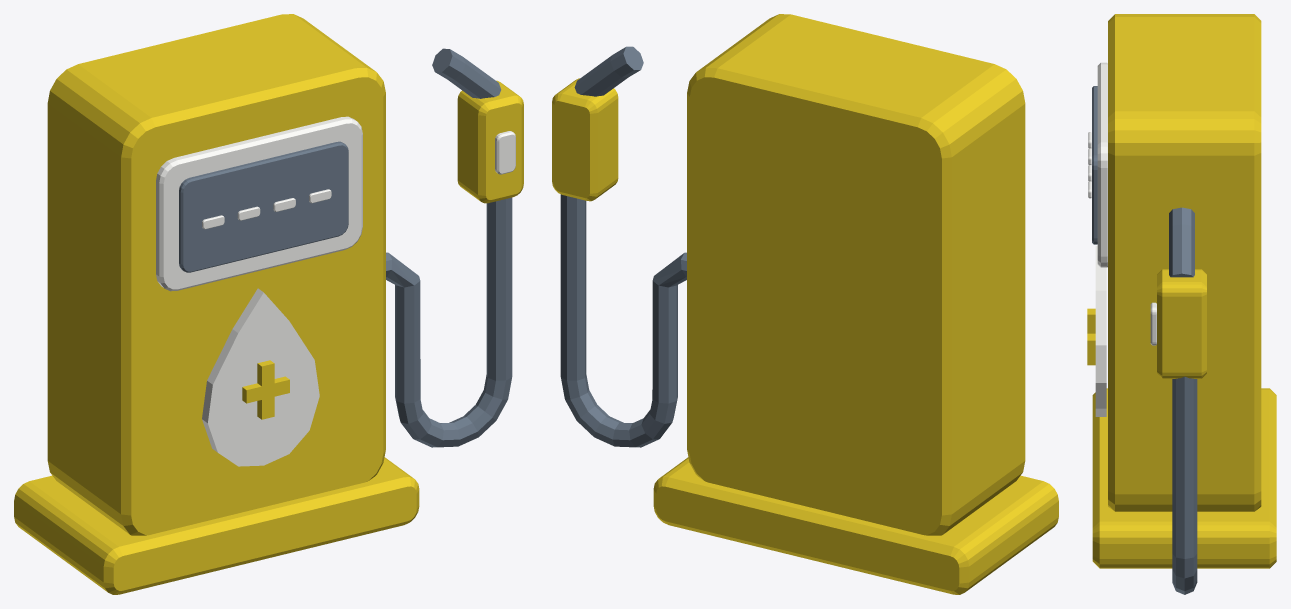
File: gasoline_additive.glb
3 renders of one model, left to right at view 1: azimuth 30°, elevation 25°; view 2: azimuth 150°, elevation 25°; view 3: azimuth 270°, elevation 25°, orthographic. The views are drawn at different scales.
Parts seen in each view (by area): view 1: gasoline_additive; view 2: gasoline_additive; view 3: gasoline_additive.
Part boxes in pixels (bbox=[...]): gasoline_additive: bbox=[14, 14, 523, 594]; gasoline_additive: bbox=[552, 14, 1058, 594]; gasoline_additive: bbox=[1087, 14, 1276, 594].
Bounding box in the file's own units: 1.78 × 1.73 × 0.68.
